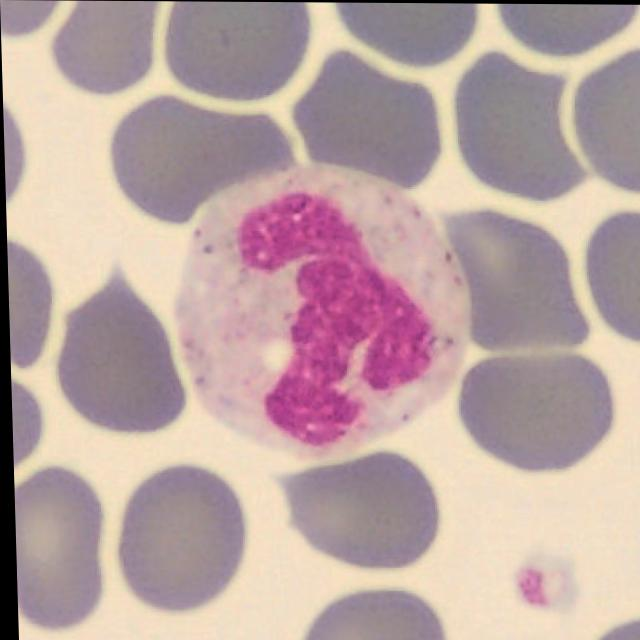Neutrofilo segmentado: (170, 159, 469, 463)
